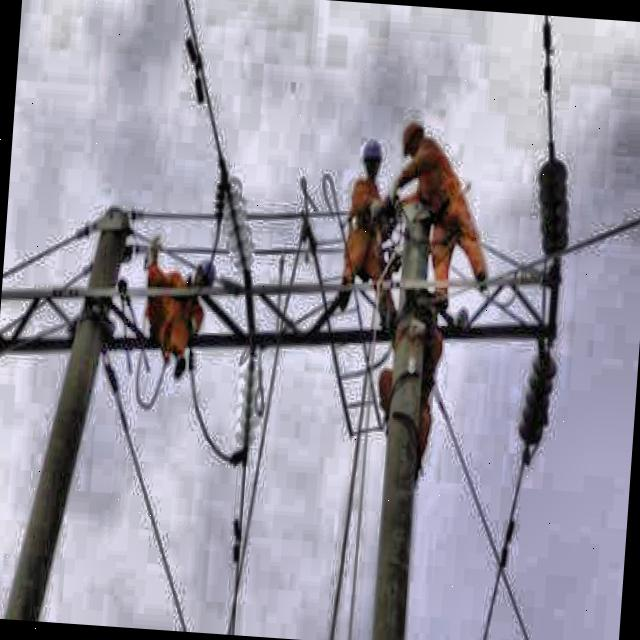helmet: (398, 117, 429, 159), (357, 140, 384, 180)
